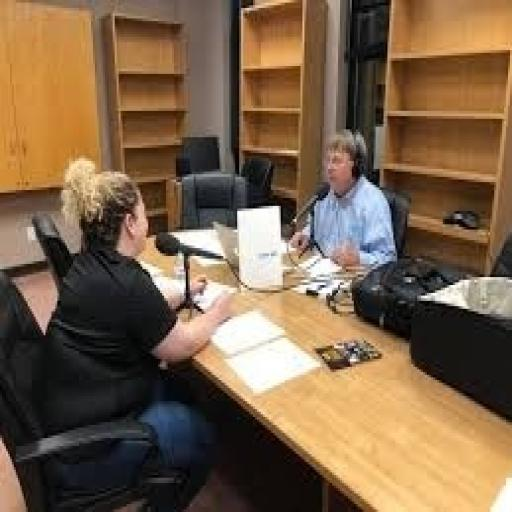sitting: (40, 153, 235, 507)
